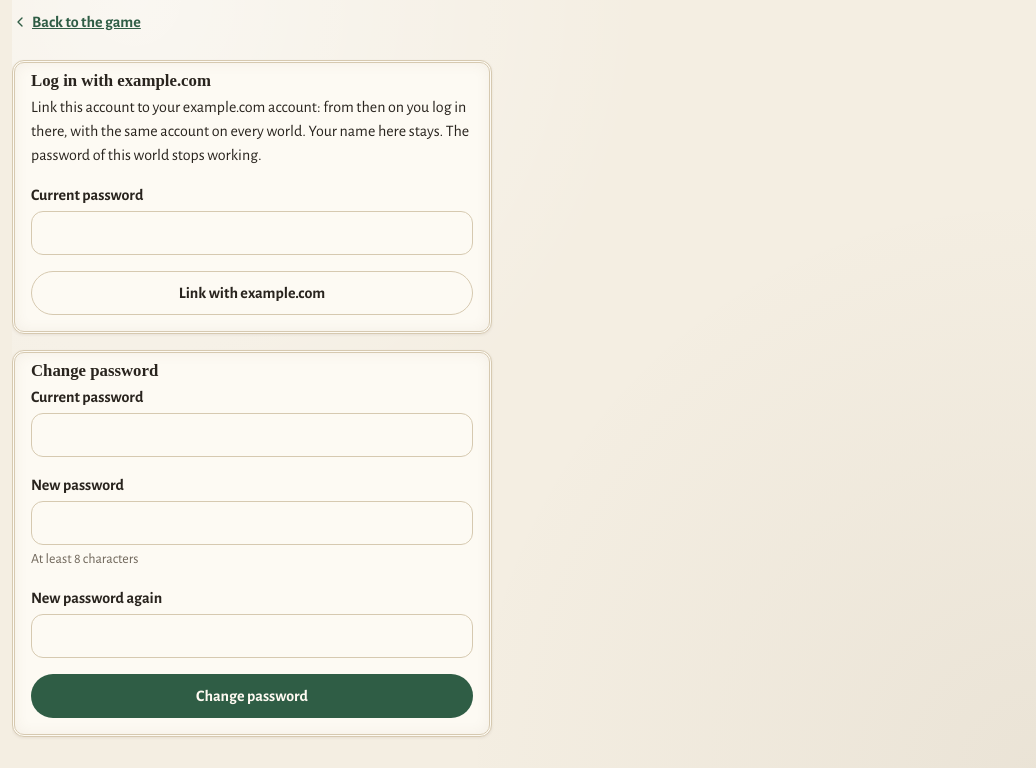
Test: PasswordPage › asks for the current password before linking the account (security audit of 1.5)
Note: an empty field is refused on the page, without a request
Click the button "Link with example.com" at (252, 293), box [31, 271, 473, 315]
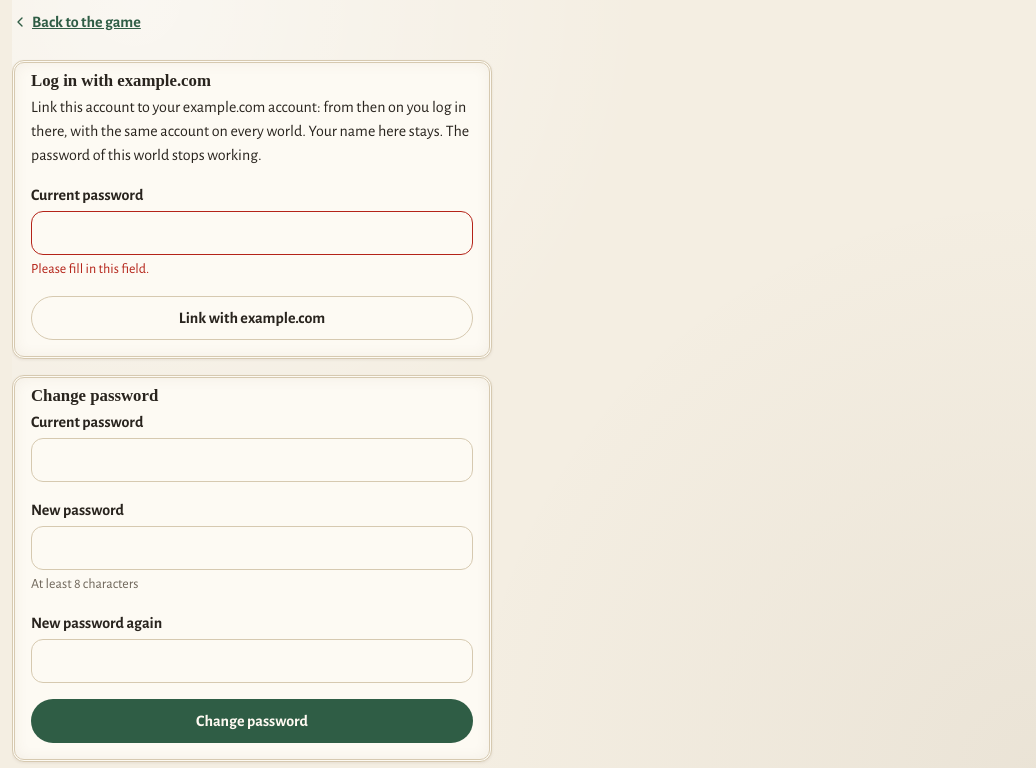
Check: the button "Link with example.com" is enabled, box [31, 296, 473, 340]
Check: the text "Please fill in this field." is shown, box [31, 262, 149, 276]
